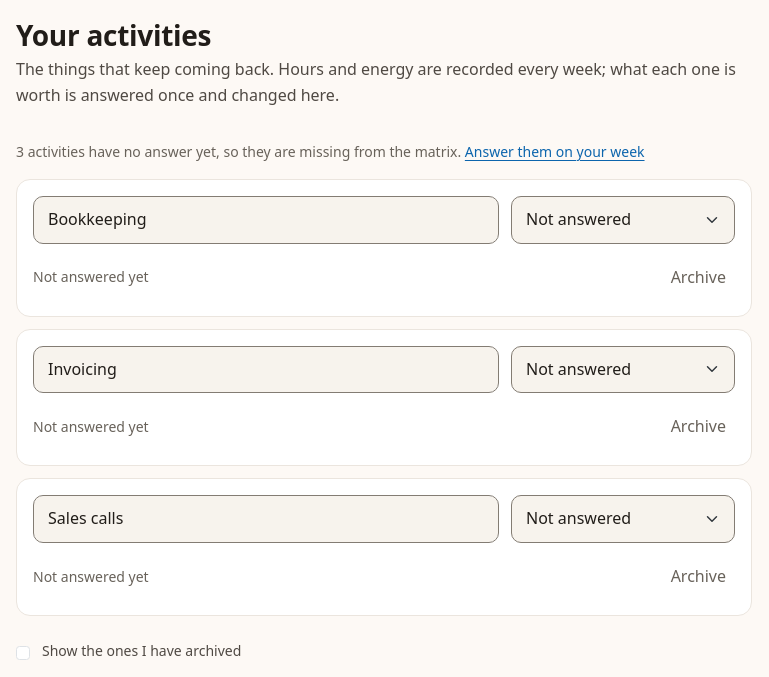
Test: the activities list › picks up answers that arrive on a later fetch, not just the first
Expected: the heading "Your activities" is shown, [16,16,211,54]
Expected: the 3rd dropdown shows "Not answered", [511,495,735,543]
# Any write invalidates the workspace, which is what makes the list refetch.
Click the button named "archive invoicing" at (698, 427), box [662,405,735,449]
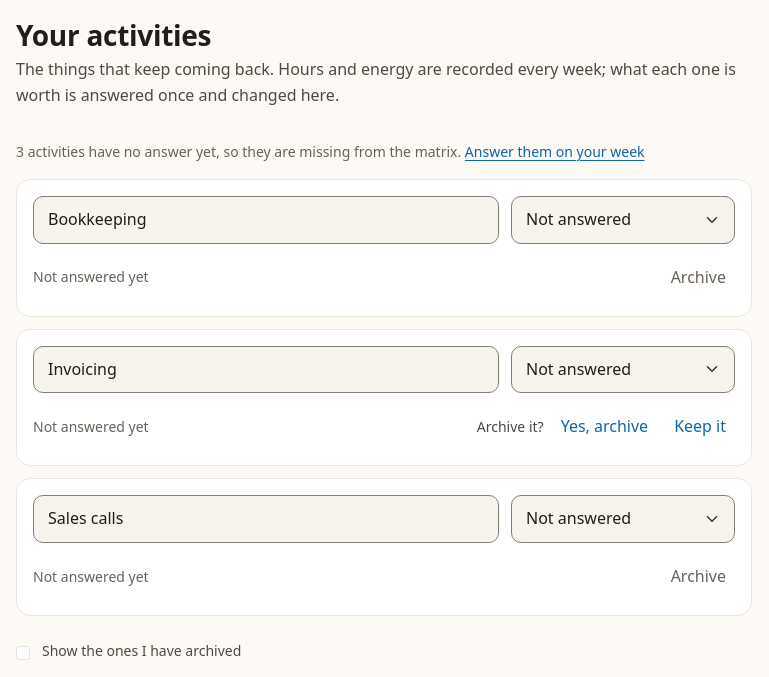
Click the button "Yes, archive" at (604, 427), box [552,405,657,449]
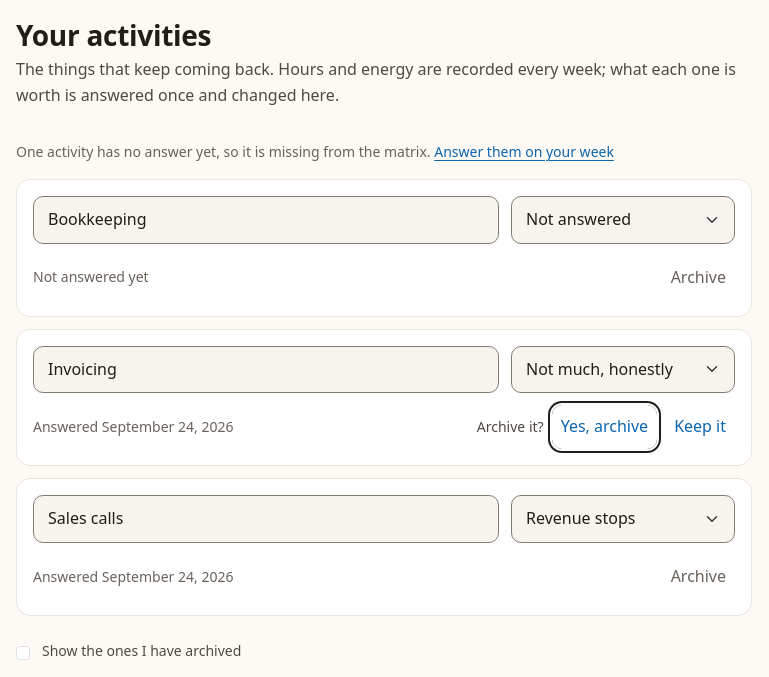
Expected: the 3rd dropdown shows "Revenue stops", [511,495,735,543]
